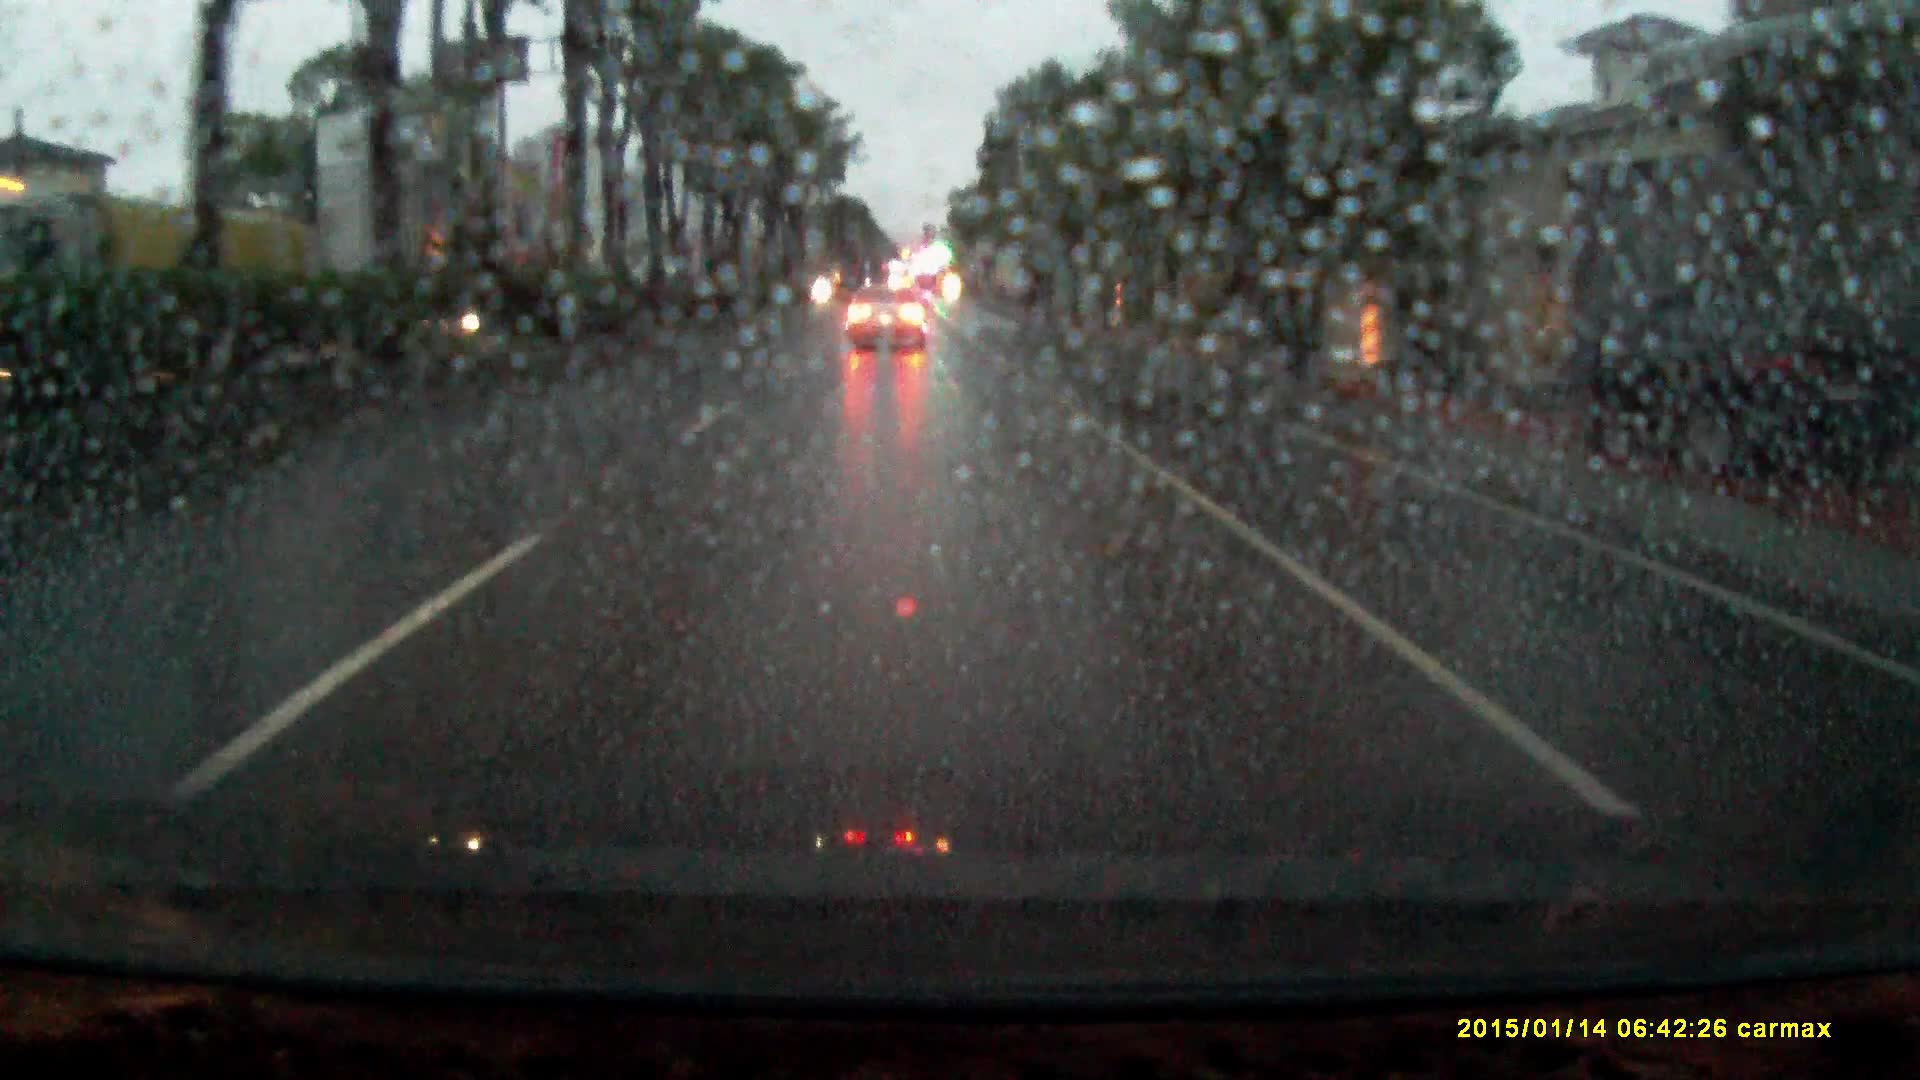vehicle: (1543, 302, 1851, 497), (24, 204, 324, 380), (844, 297, 928, 371)
